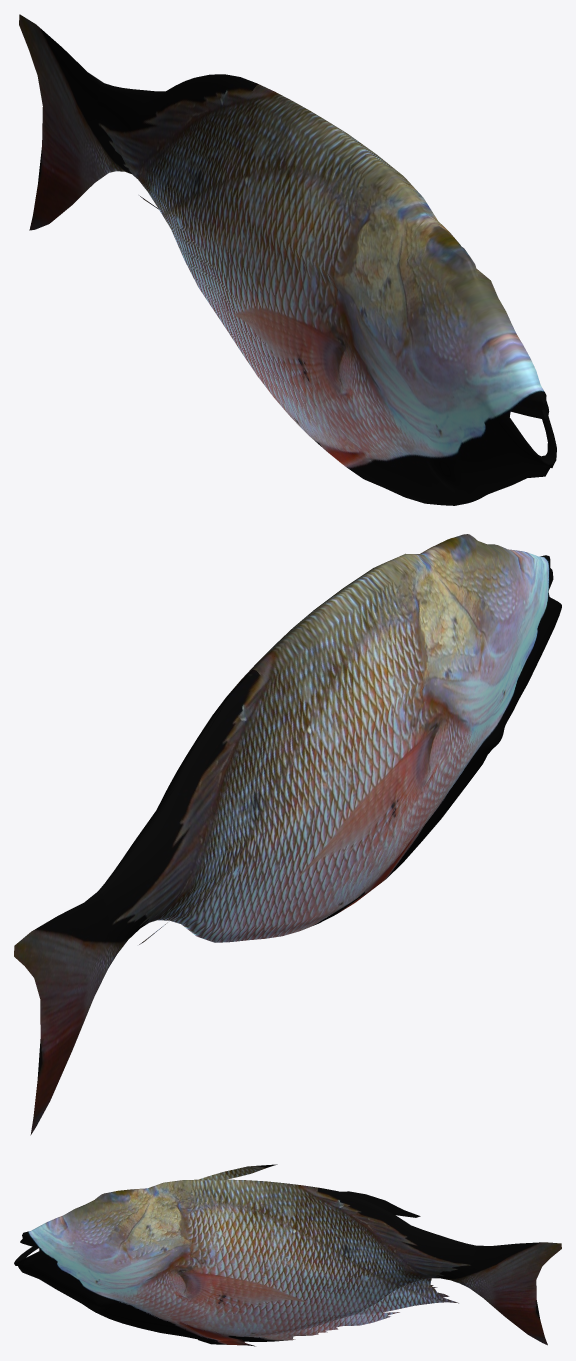
The model's file is red-snapper.glb.
3 views of the same model, one above another, from view 1: azimuth 30°, elevation 25°; view 2: azimuth 150°, elevation 25°; view 3: azimuth 270°, elevation 25° (orthographic). The views are drawn at different scales.
Visible parts, largest first — view 1: Line01; view 2: Line01; view 3: Line01.
Part boxes in pixels (x1,y1,x2,y2): Line01: (19,14,556,505); Line01: (14,534,561,1135); Line01: (14,1164,561,1346).
Bounding box in the file's own units: 0.076 × 0.272 × 0.7392.
1 material, 1 textured.
